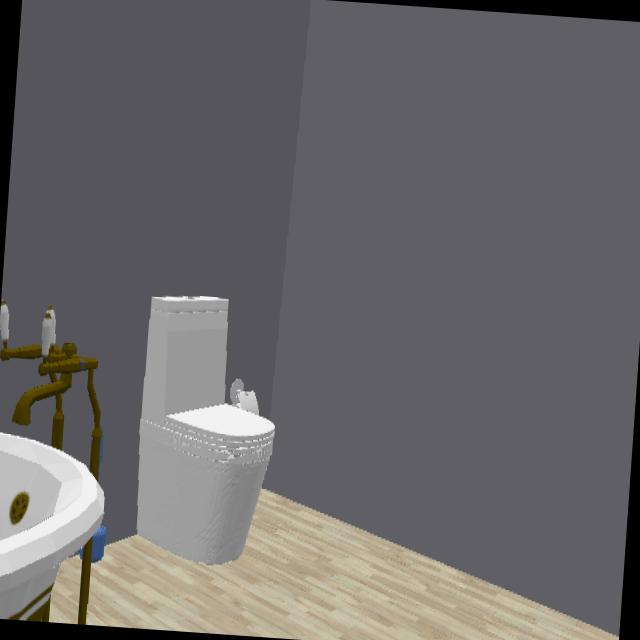bathtube: (0, 434, 103, 621)
toilet: (136, 296, 275, 566)
